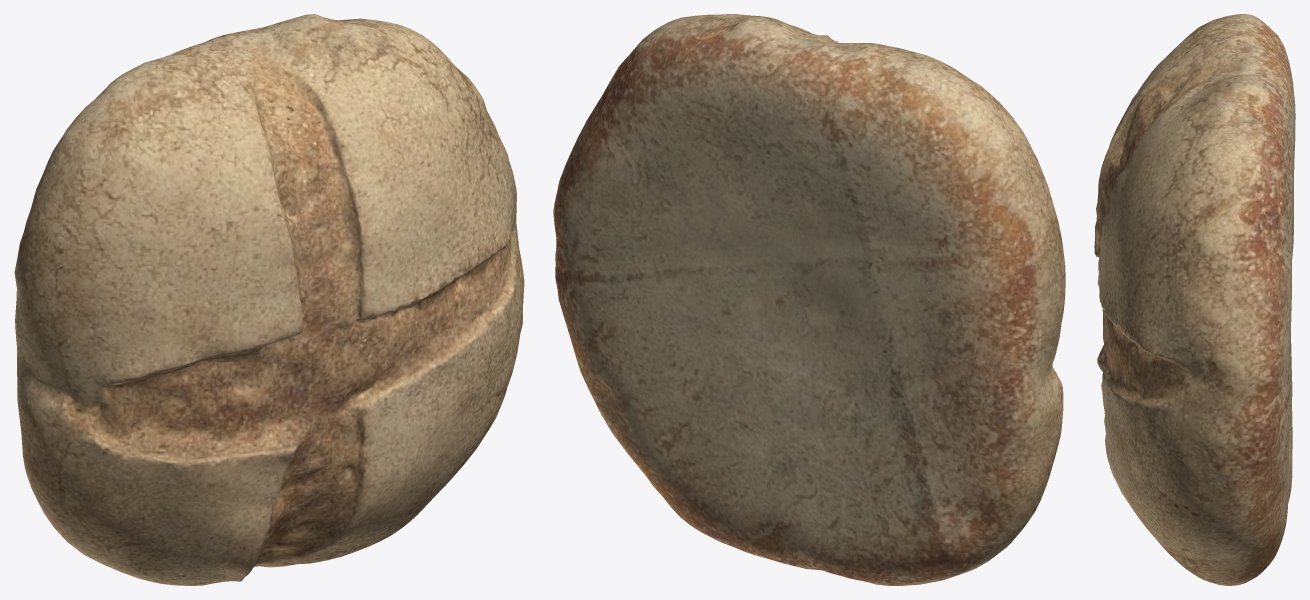
File: BreadRoll3.obj
The picture shows the model from 3 angles, left to right: view 1: azimuth 30°, elevation 25°; view 2: azimuth 150°, elevation 25°; view 3: azimuth 270°, elevation 25°; orthographic projection. The views are drawn at different scales.
Visible parts, largest first — view 1: BreadRoll3; view 2: BreadRoll3; view 3: BreadRoll3.
Part boxes in pixels (x1,y1,x2,y2): BreadRoll3: (14, 14, 524, 585); BreadRoll3: (553, 14, 1065, 585); BreadRoll3: (1094, 14, 1295, 585).
Bounding box in the file's own units: 0.1189 × 0.1231 × 0.0461.
1 material, 1 textured.
